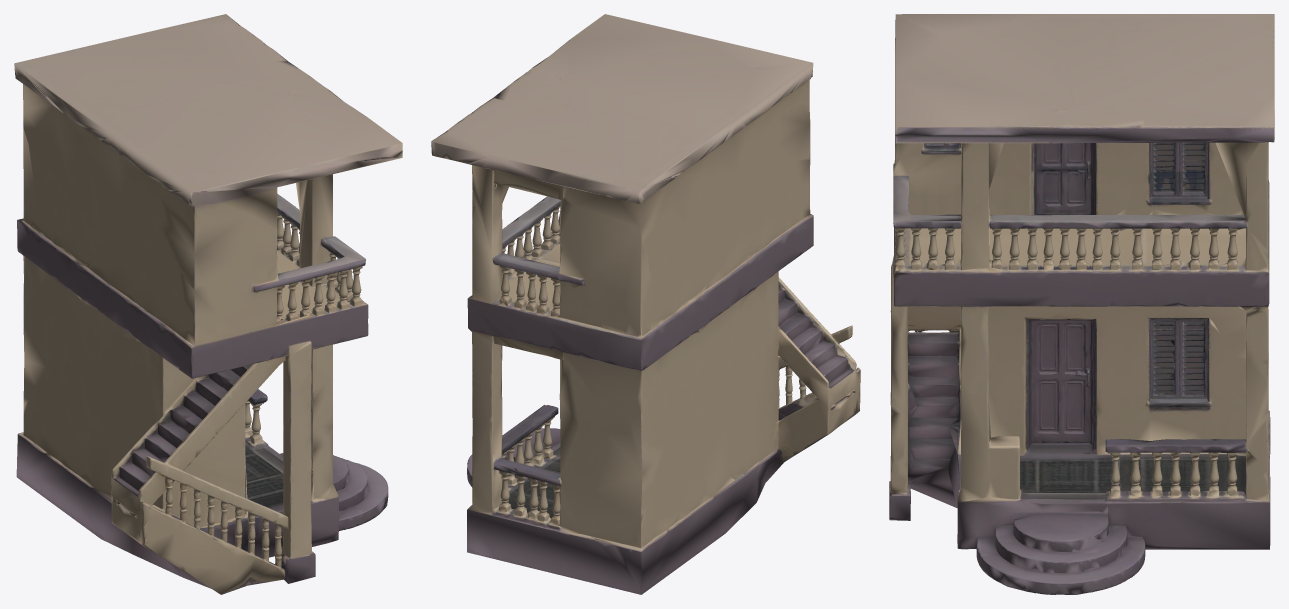
Rendered from AnandResidency.glb.
The picture shows the model from 3 angles, left to right: view 1: azimuth 30°, elevation 25°; view 2: azimuth 150°, elevation 25°; view 3: azimuth 270°, elevation 25°; orthographic projection. The views are drawn at different scales.
Parts seen in each view (by area): view 1: tripo_node_7f4cf65e-41f5-43e5-8860-c4d8afda16c5; view 2: tripo_node_7f4cf65e-41f5-43e5-8860-c4d8afda16c5; view 3: tripo_node_7f4cf65e-41f5-43e5-8860-c4d8afda16c5.
Boxes of the visible parts, <box> form: tripo_node_7f4cf65e-41f5-43e5-8860-c4d8afda16c5: <box>14,14,402,594</box>; tripo_node_7f4cf65e-41f5-43e5-8860-c4d8afda16c5: <box>431,14,860,594</box>; tripo_node_7f4cf65e-41f5-43e5-8860-c4d8afda16c5: <box>889,14,1274,594</box>.
Size of the model in its own units: 0.7779 by 0.9791 by 0.772.
Materials: 1 (1 with a texture image).
